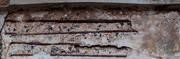Exposed reinforcement: (9, 41, 130, 51), (4, 29, 138, 36), (3, 18, 132, 24), (49, 53, 128, 57), (10, 53, 34, 57)
Spalling: (1, 2, 180, 59)
